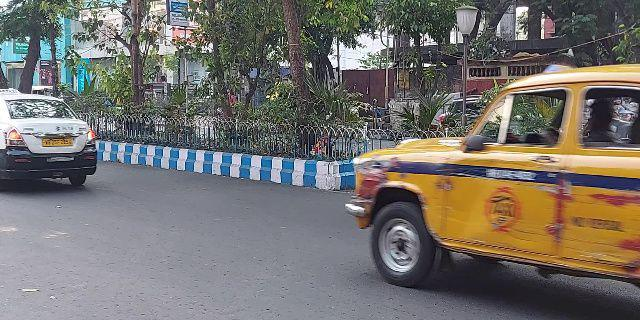Car: (345, 62, 640, 289), (1, 83, 104, 189)
